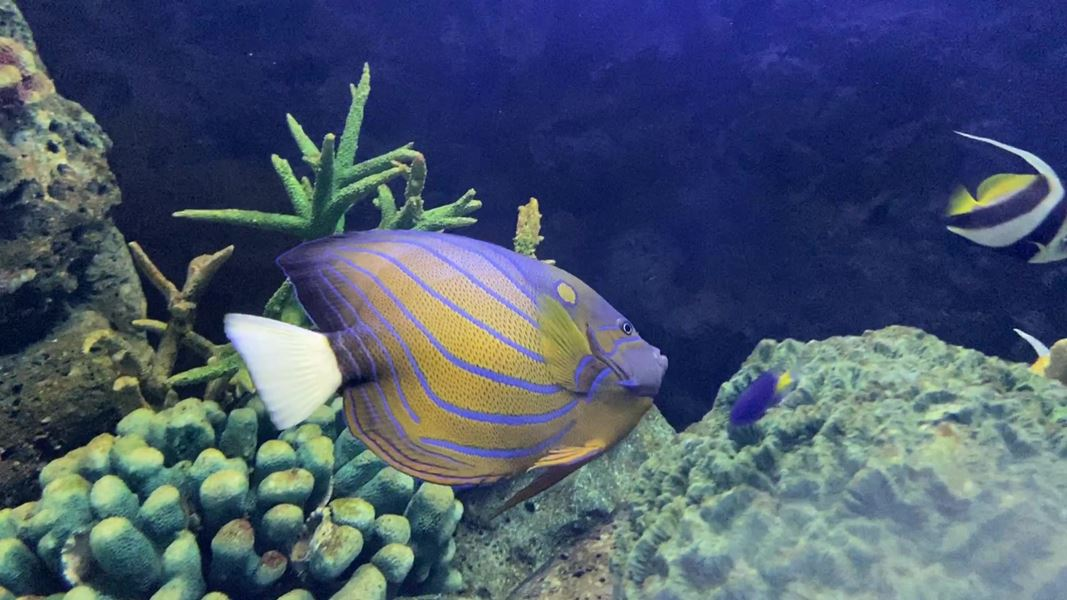Blue ring angelfish: (207, 219, 688, 527)
